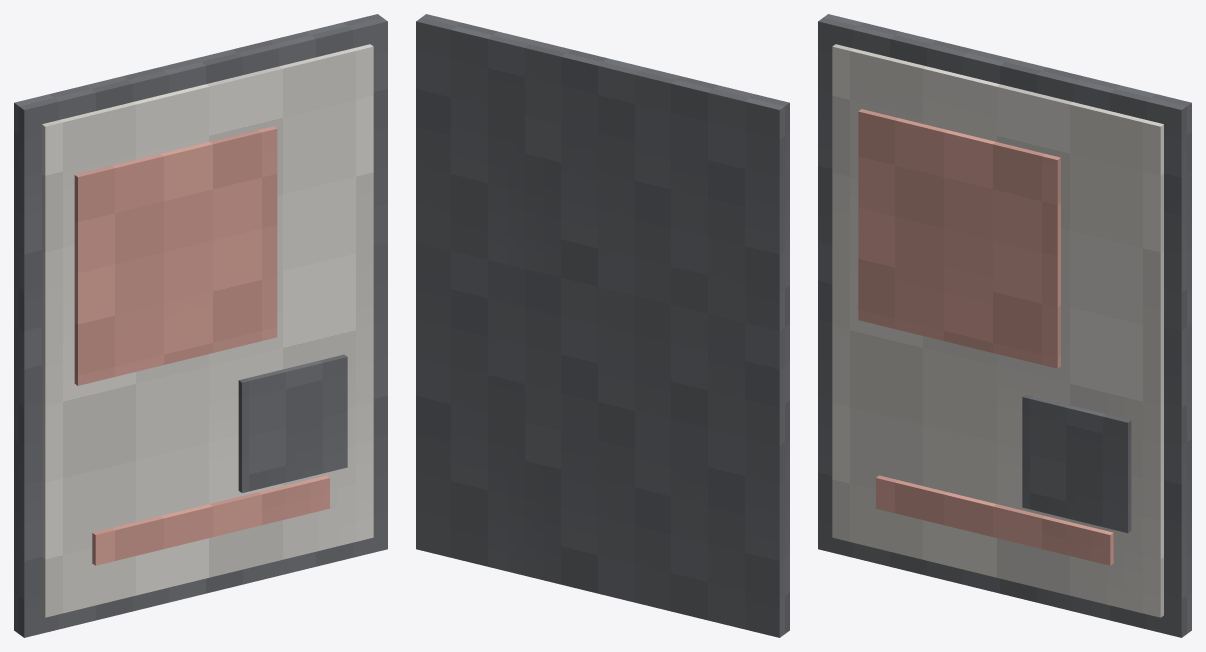
Rendered from pixel-modern-office-framed-poster-coral-f97a1801.glb.
The picture shows the model from 3 angles, left to right: view 1: azimuth 30°, elevation 25°; view 2: azimuth 150°, elevation 25°; view 3: azimuth 330°, elevation 25°; orthographic projection.
Visible parts, largest first — view 1: framed-poster-coral; view 2: framed-poster-coral; view 3: framed-poster-coral.
Part boxes in pixels (x1,y1,x2,y2): framed-poster-coral: [14, 14, 387, 637]; framed-poster-coral: [416, 14, 789, 637]; framed-poster-coral: [818, 14, 1191, 637].
Size of the model in its own units: 0.62 by 0.86 by 0.05.
Materials: 3 (3 with a texture image).
